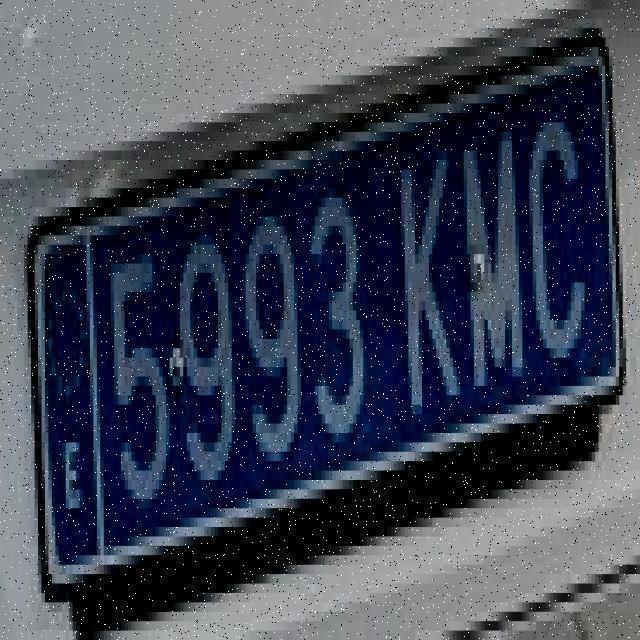License Plate: (28, 46, 628, 594)
